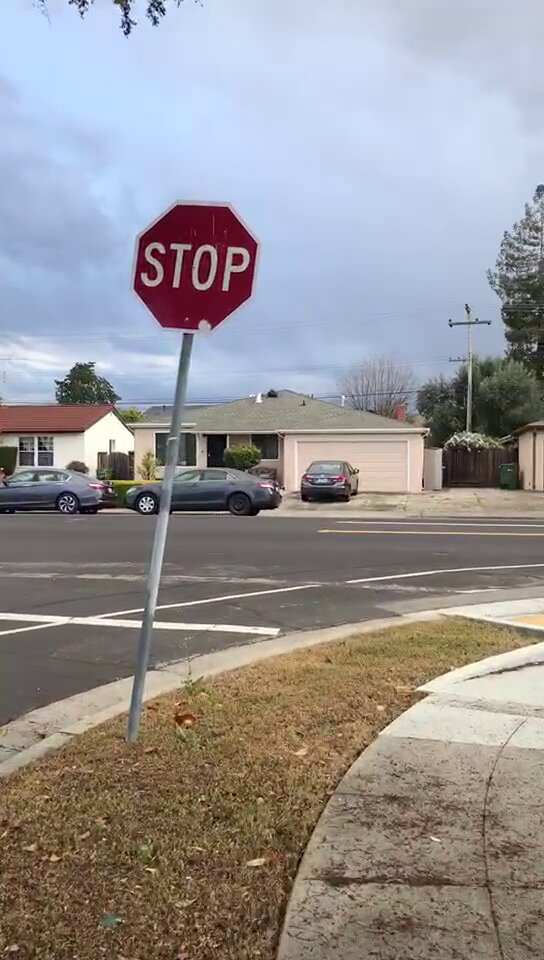stop_sign: (133, 201, 260, 331)
